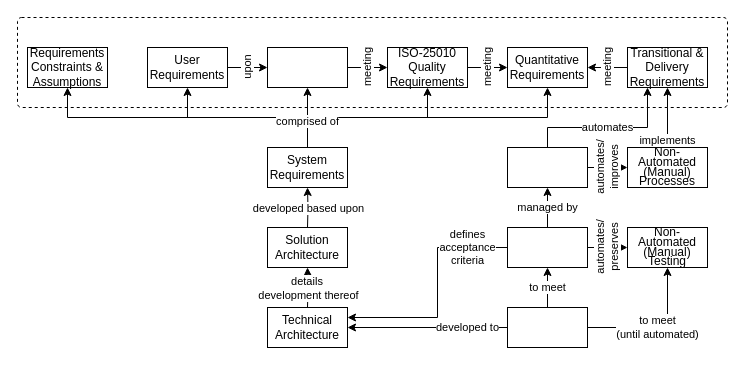
Some shapes in this 745 by 376 pixel diagram are drawn without their labels. The box of each missing label's shape, as (x1, y1, x2, y2) in pixels:
Automated Delivery Development: (506, 146, 588, 188)
Automated QA Development: (506, 226, 588, 268)
BABOK classified requirements: (16, 16, 728, 108)
Business Requirements: (266, 46, 348, 88)
System Configuration/ Custom Development: (506, 306, 588, 348)
